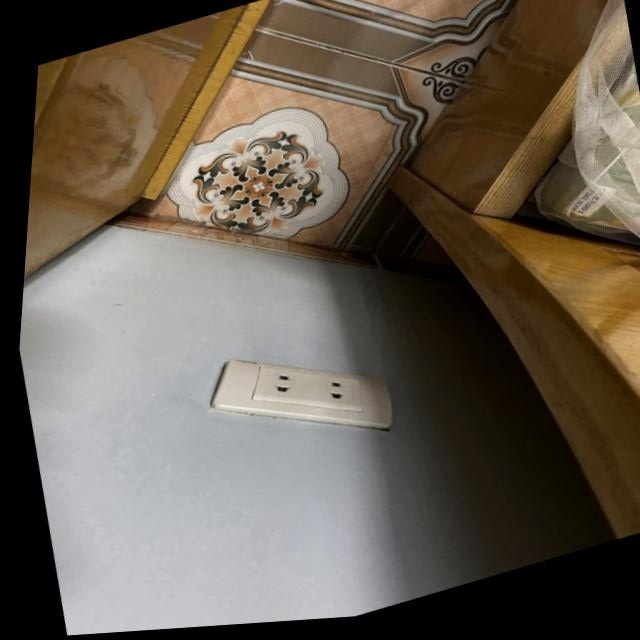outlet: (195, 315, 403, 482)
